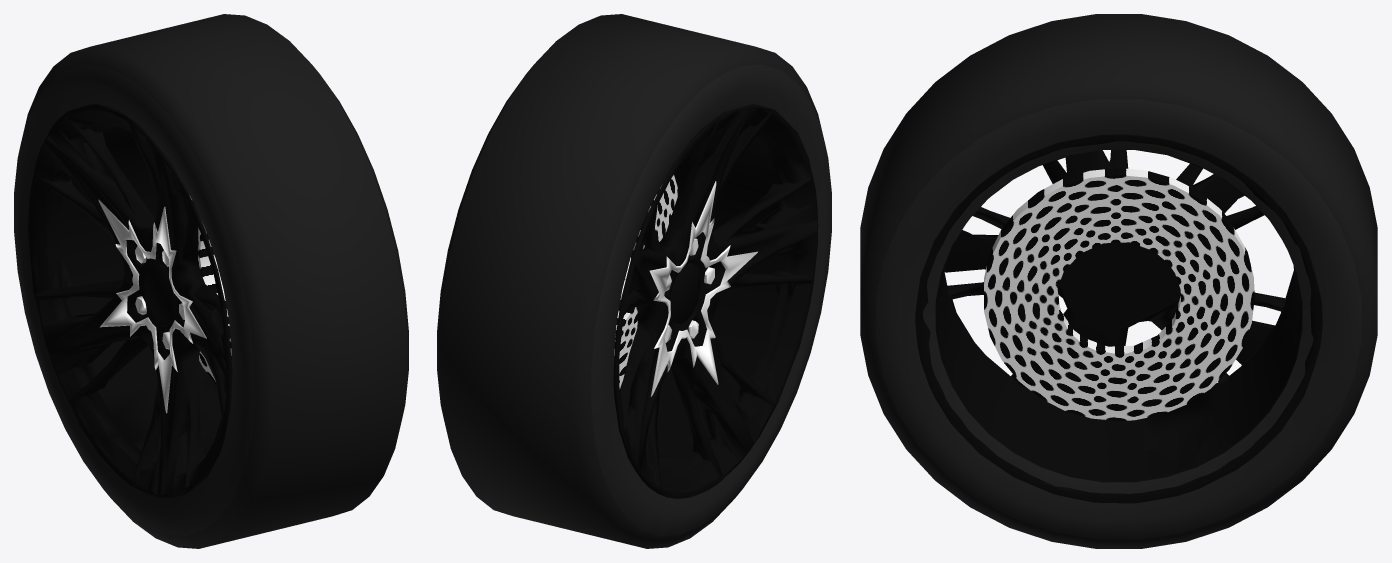
3 views of the same model, side by side, from view 1: azimuth 30°, elevation 25°; view 2: azimuth 150°, elevation 25°; view 3: azimuth 270°, elevation 25° (orthographic).
Visible parts, largest first — view 1: object 3, WheelRearRRim, WheelRearRBrakeDisc; view 2: object 3, WheelRearRRim, WheelRearRBrakeDisc; view 3: object 3, WheelRearRRim, WheelRearRBrakeDisc.
Boxes of the visible parts, x1,y1,x2,y2 form: object 3: (14, 14, 408, 548); WheelRearRRim: (28, 104, 232, 498); WheelRearRBrakeDisc: (189, 195, 231, 384); object 3: (437, 14, 831, 548); WheelRearRRim: (613, 104, 818, 498); WheelRearRBrakeDisc: (614, 175, 678, 388); object 3: (860, 14, 1377, 548); WheelRearRRim: (915, 134, 1322, 503); WheelRearRBrakeDisc: (984, 168, 1254, 420).
Size of the model in its own units: 0.2849 by 0.7651 by 0.7651.
Materials: 5 (1 with a texture image).
